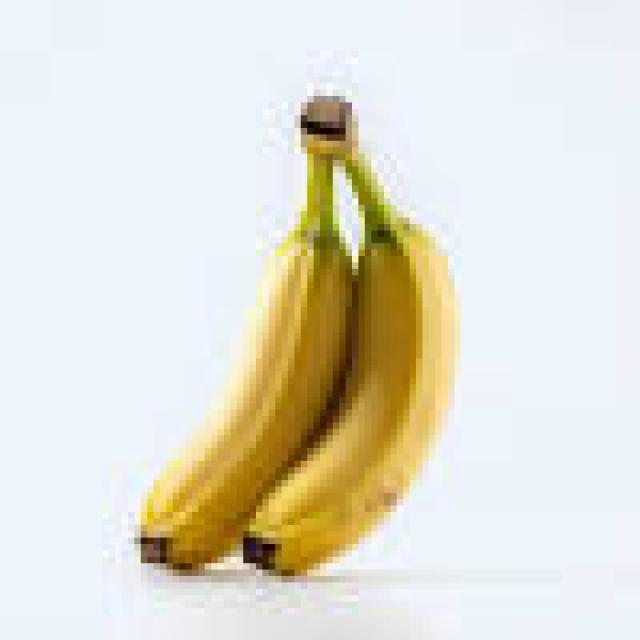Banana: (145, 99, 360, 566), (244, 156, 458, 572)
